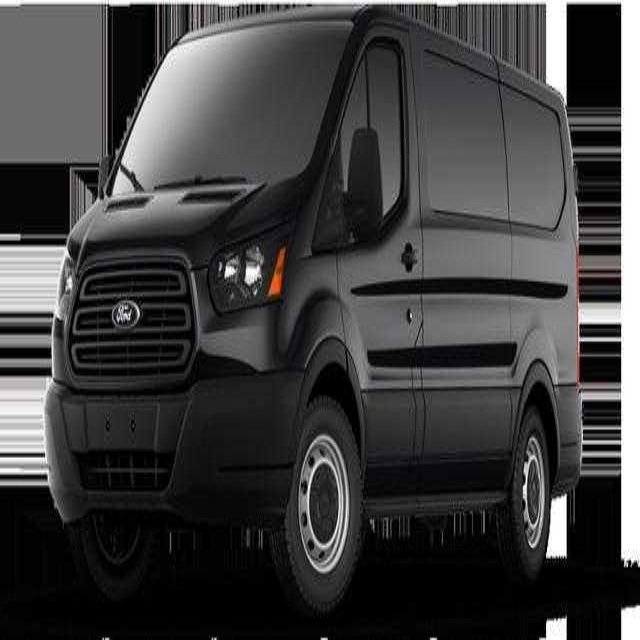Van: (43, 4, 582, 623)
